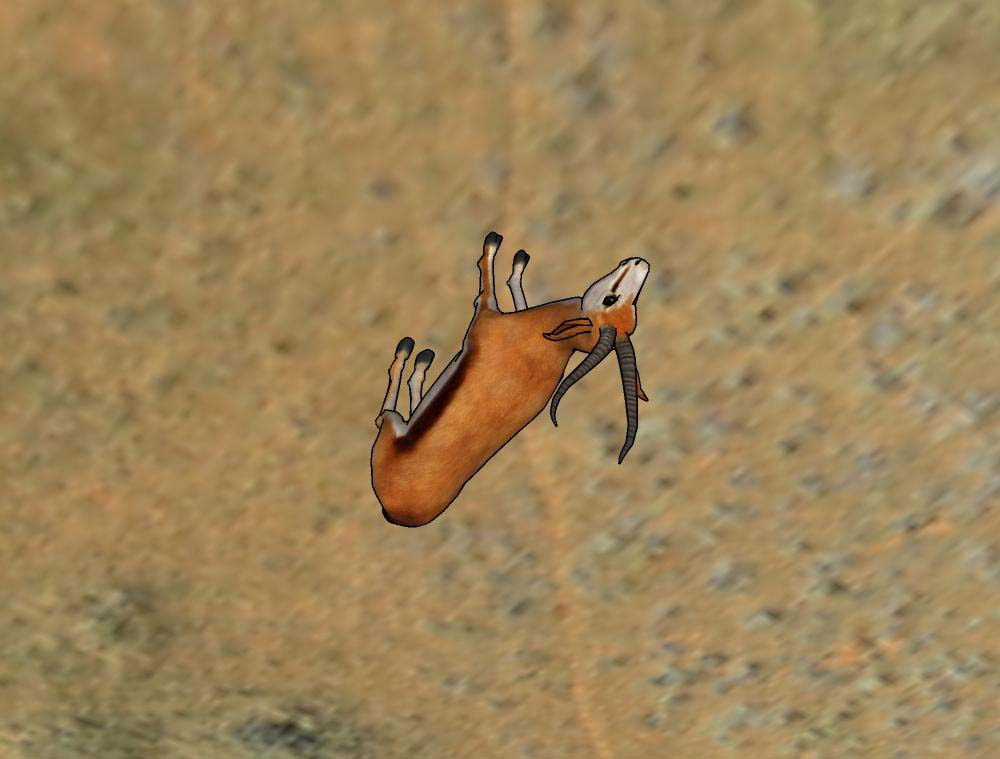springbok: (365, 216, 653, 535)
